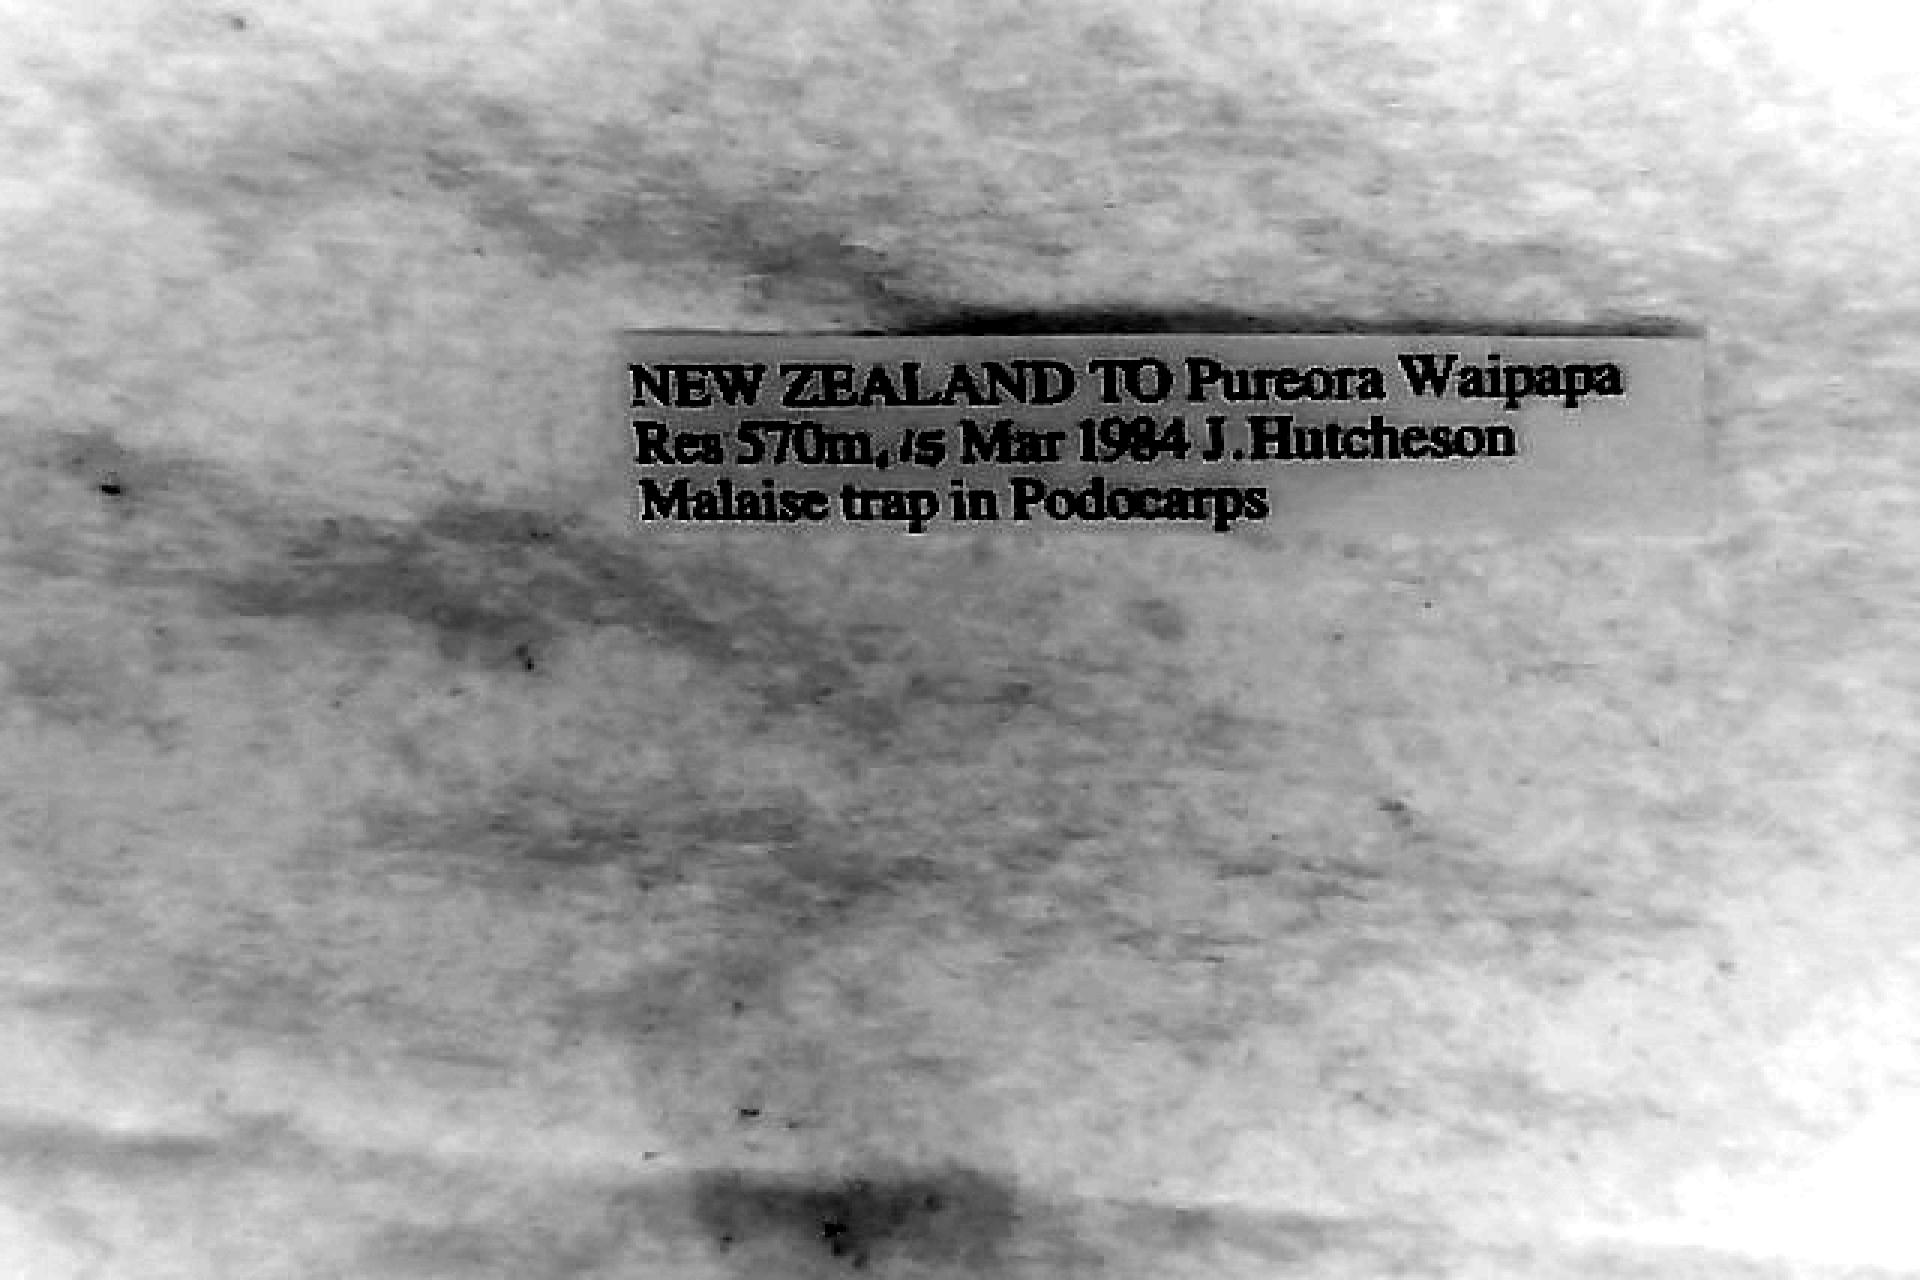typed_label: (623, 333, 1703, 540)
